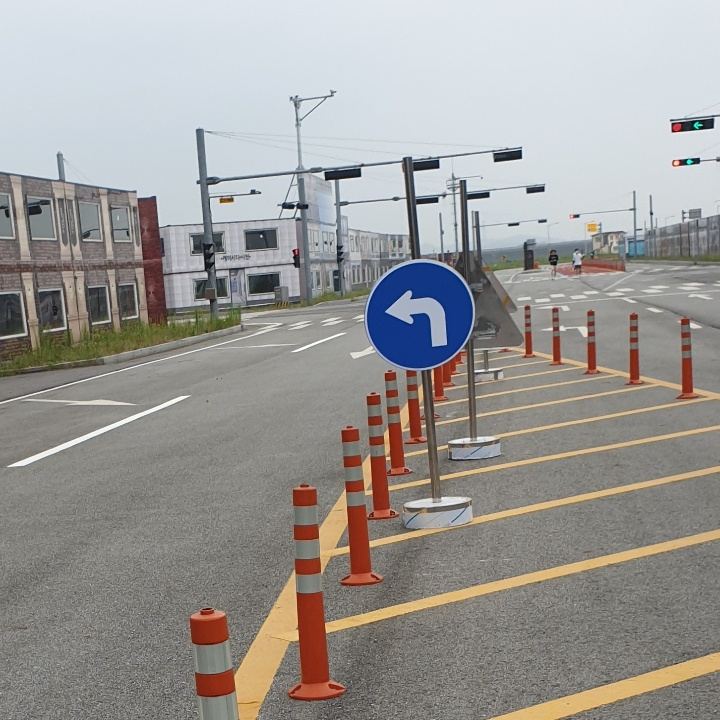left: (377, 281, 458, 359)
